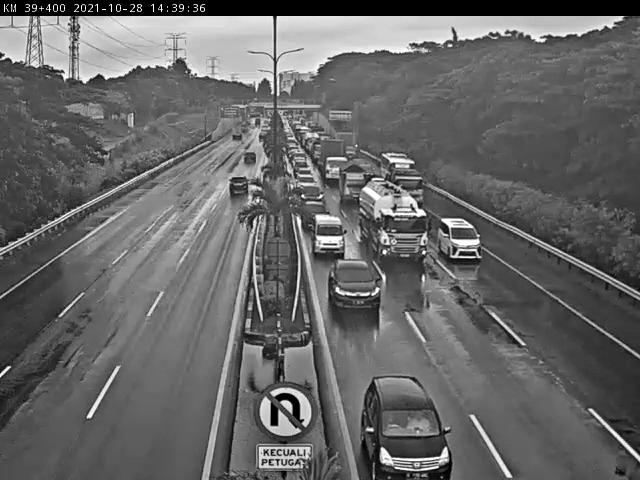big bus: (379, 151, 415, 182)
big truck: (359, 181, 416, 247)
car: (363, 365, 445, 480), (325, 259, 378, 316), (432, 218, 484, 258), (311, 208, 341, 249), (216, 175, 254, 199), (301, 192, 330, 222), (238, 144, 266, 174), (334, 166, 357, 193), (299, 182, 323, 201), (238, 154, 255, 176), (298, 171, 318, 184)
small truck: (380, 168, 418, 200), (320, 142, 350, 179)
